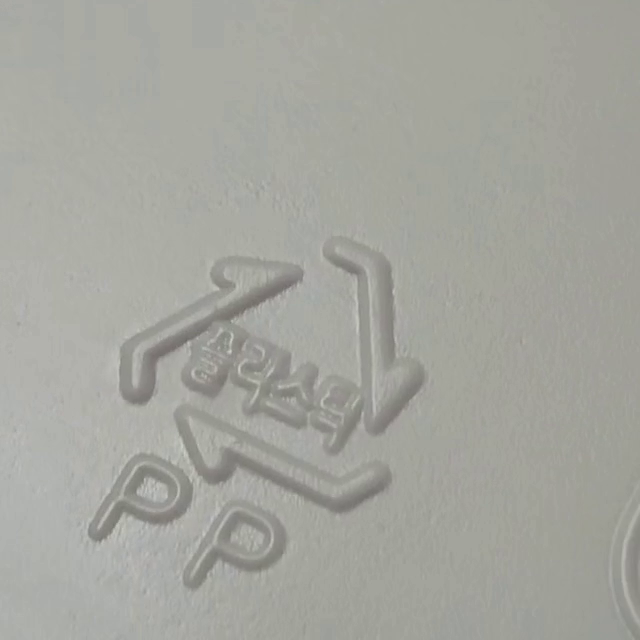Plastic: (120, 236, 428, 511)
